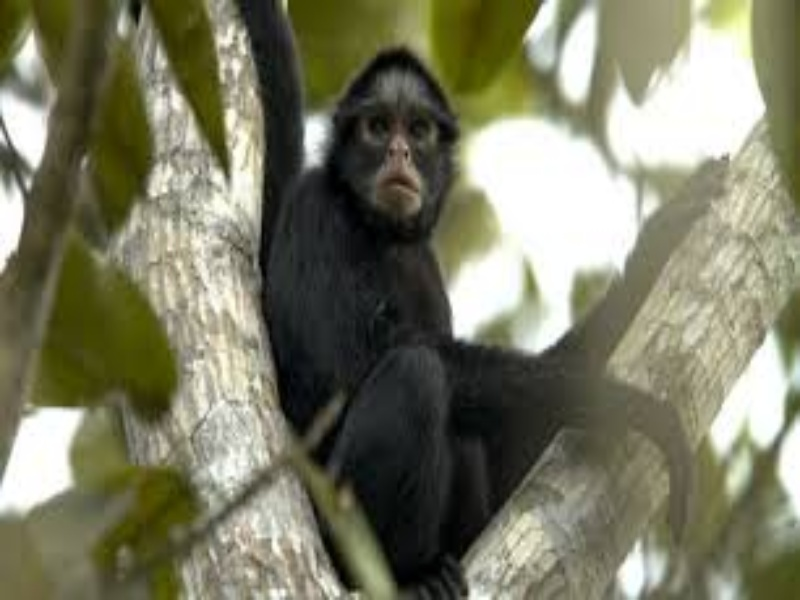monkey: (256, 16, 613, 484)
